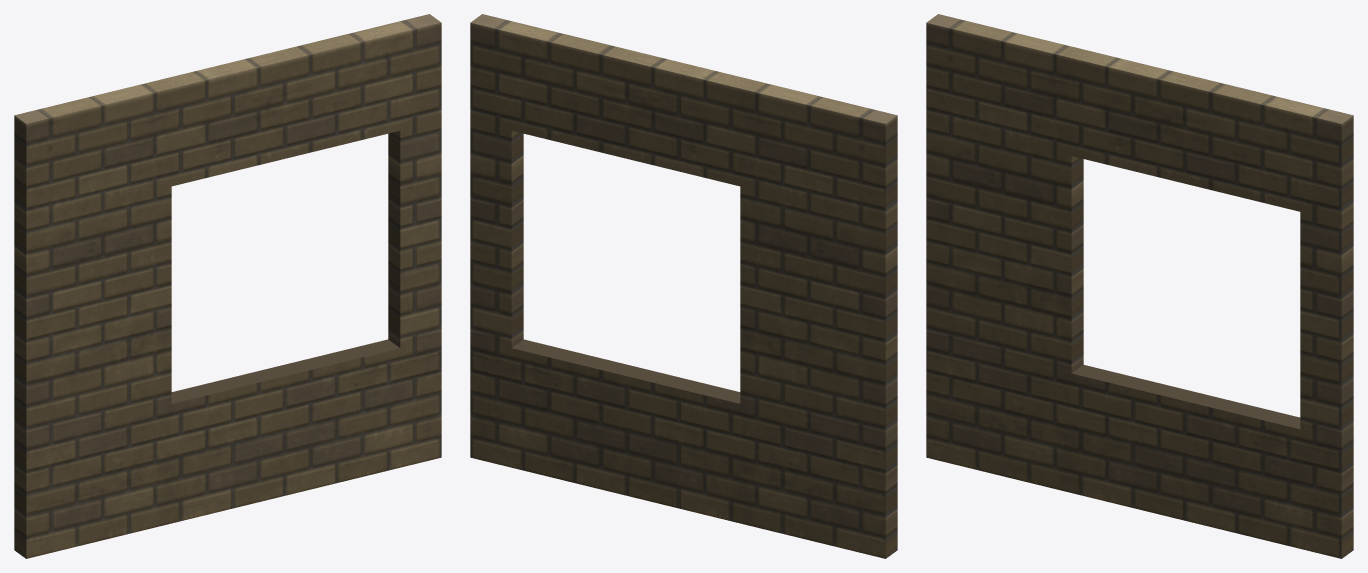
Rendered from wall6_5.fbx.
3 views of the same model, side by side, from view 1: azimuth 30°, elevation 25°; view 2: azimuth 150°, elevation 25°; view 3: azimuth 330°, elevation 25° (orthographic).
Visible parts, largest first — view 1: wall6_brick_sand_e; view 2: wall6_brick_sand_e; view 3: wall6_brick_sand_e.
Boxes of the visible parts, x1=… form: wall6_brick_sand_e: x1=14, y1=14, x2=441, y2=558; wall6_brick_sand_e: x1=470, y1=14, x2=897, y2=558; wall6_brick_sand_e: x1=926, y1=14, x2=1353, y2=558.
Bounding box in the file's own units: 400 × 400 × 20.
